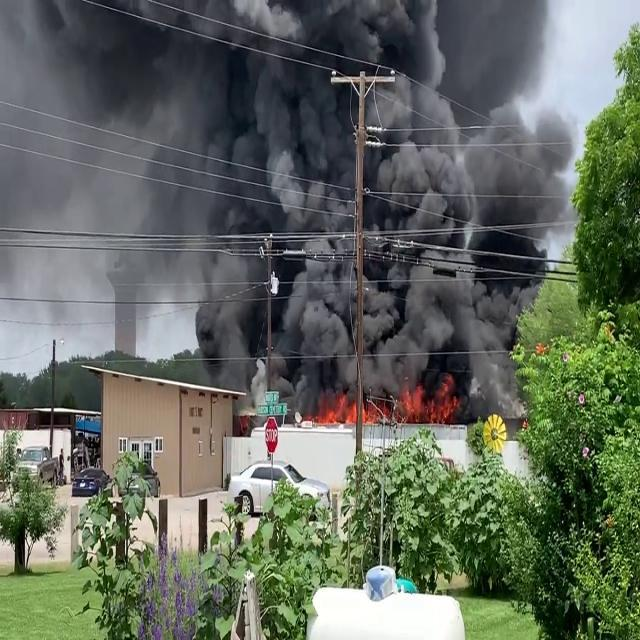Fire: (398, 374, 458, 423), (305, 388, 363, 426)
Smoke: (0, 0, 580, 404)
